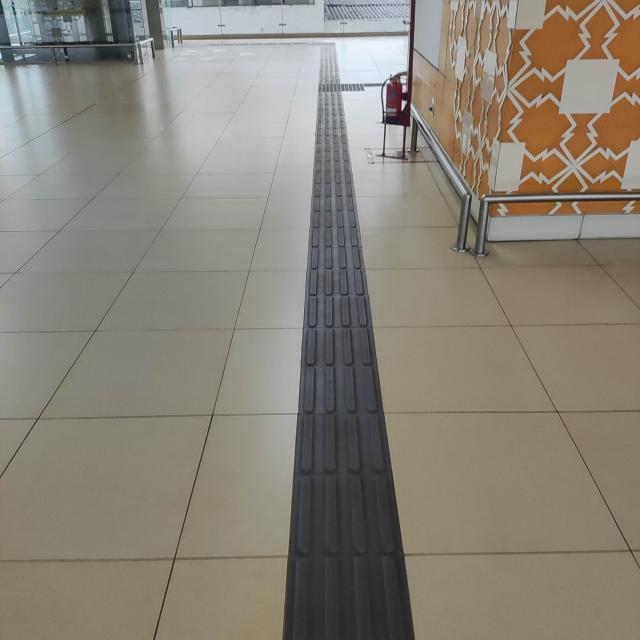lurus: (283, 120, 405, 640)
